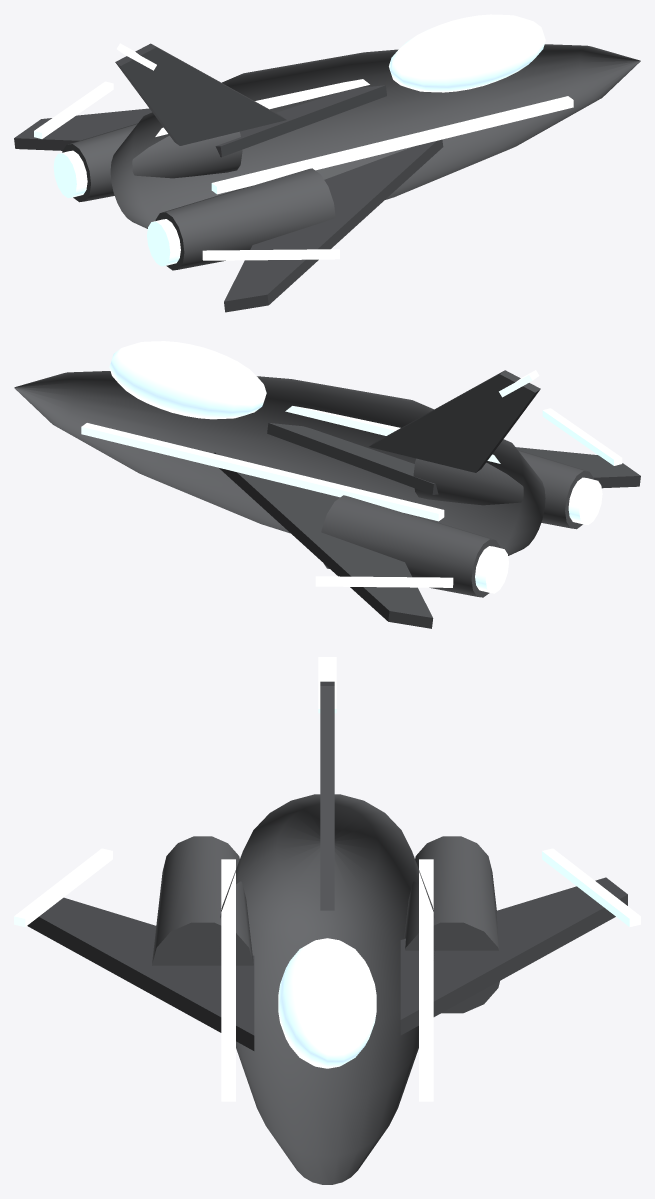
Rendered from voyager.glb.
The picture shows the model from 3 angles, top to bottom: view 1: azimuth 30°, elevation 25°; view 2: azimuth 150°, elevation 25°; view 3: azimuth 270°, elevation 25°; orthographic projection. The views are drawn at different scales.
Visible parts, largest first — view 1: glint-ship; view 2: glint-ship; view 3: glint-ship.
Boxes of the visible parts, bbox=[...] form: glint-ship: bbox=[14, 14, 640, 312]; glint-ship: bbox=[14, 341, 640, 628]; glint-ship: bbox=[14, 657, 640, 1184].
Bounding box in the file's own units: 2.22 × 0.8653 × 1.71.
